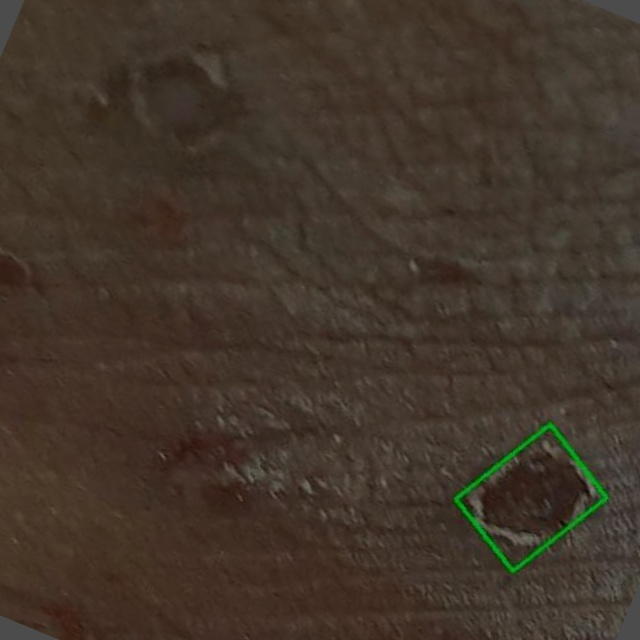Contact Dermatitis: (456, 425, 607, 572)
